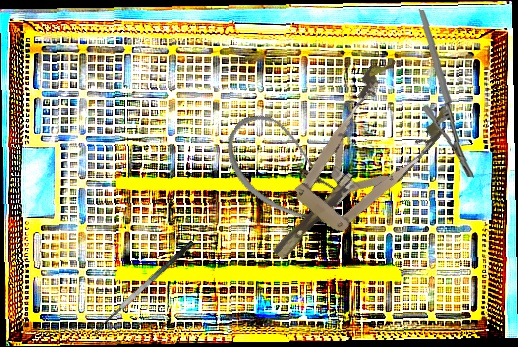Cannula: (209, 103, 365, 241)
Needle Holder: (409, 9, 484, 178)
Spatula Surgical: (88, 239, 203, 342)
Speculum: (239, 50, 459, 287)
